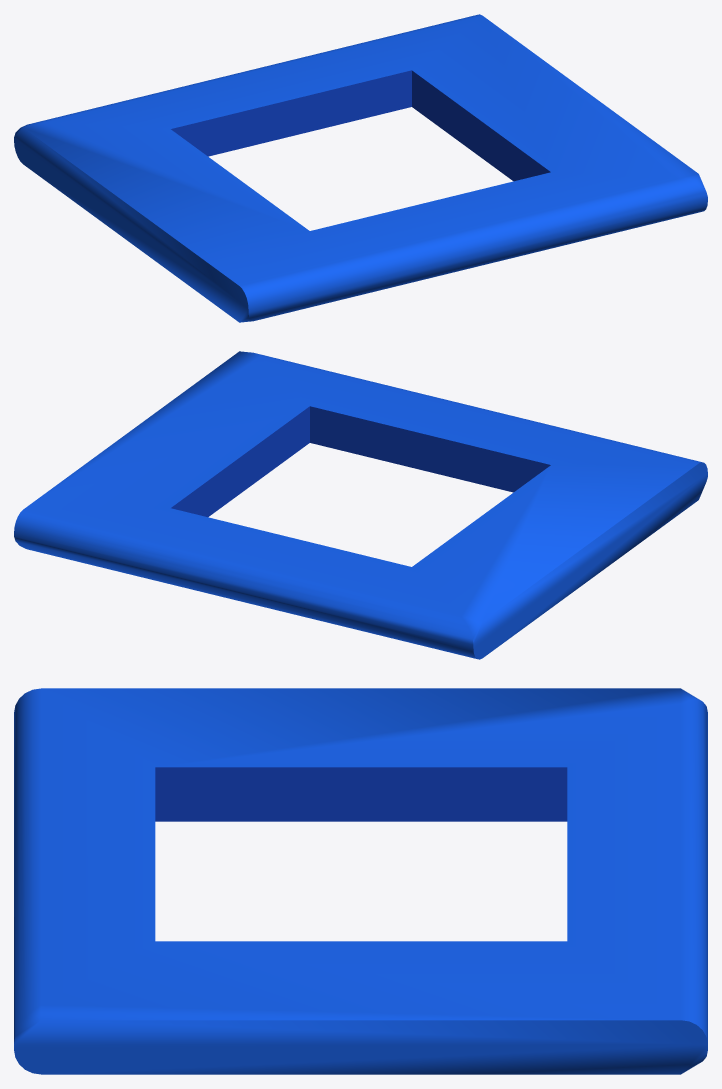
The model's file is MoldCube.fbx.
The picture shows the model from 3 angles, top to bottom: view 1: azimuth 30°, elevation 25°; view 2: azimuth 150°, elevation 25°; view 3: azimuth 270°, elevation 25°; orthographic projection. The views are drawn at different scales.
Parts seen in each view (by area): view 1: MoldCube.004; view 2: MoldCube.004; view 3: MoldCube.004.
Part boxes in pixels (x1,y1,x2,y2): MoldCube.004: (14, 14, 707, 322); MoldCube.004: (14, 351, 707, 659); MoldCube.004: (14, 688, 707, 1074).
Bounding box in the file's own units: 4.06 × 0.3095 × 3.59.
